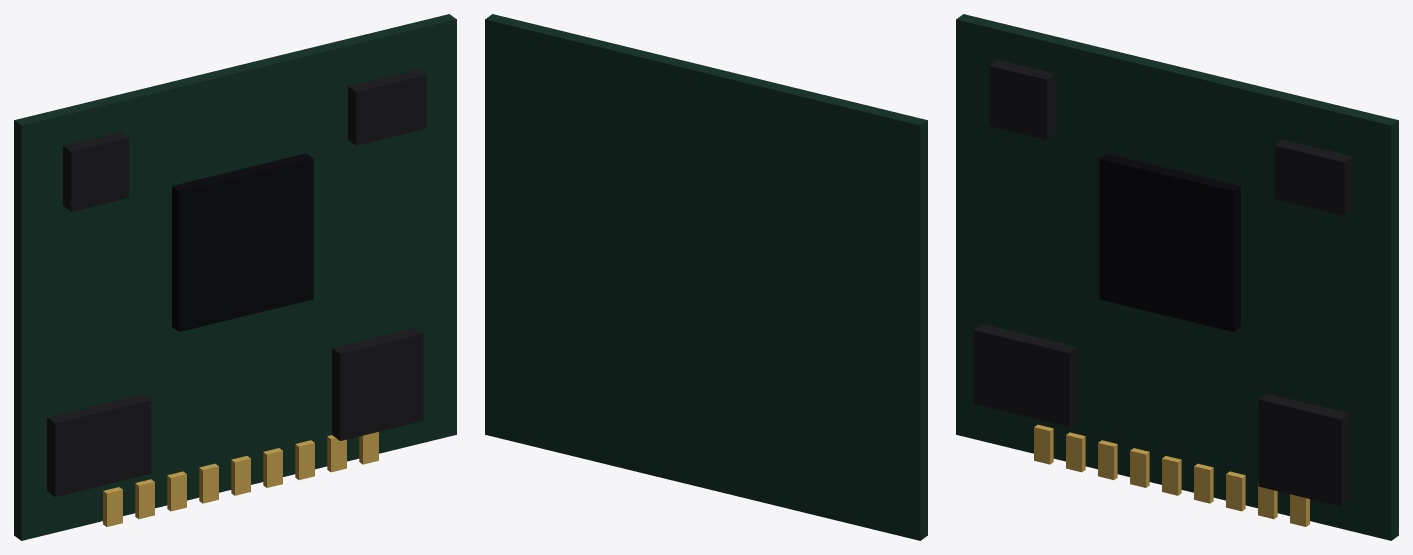
File: 05_Main_Board.glb
The picture shows the model from 3 angles, left to right: view 1: azimuth 30°, elevation 25°; view 2: azimuth 150°, elevation 25°; view 3: azimuth 330°, elevation 25°; orthographic projection.
Parts seen in each view (by area): view 1: Main_Board.PCB, Main_Board.Lens_Glass, Main_Board.Chip_2, Main_Board.Chip, Main_Board.Chip_3, Main_Board.Chip_4, Main_Board.Gold_Contacts_2, Main_Board.Gold_Contacts_3, Main_Board.Gold_Contacts_7, Main_Board.Gold_Contacts_4, Main_Board.Gold_Contacts_6, Main_Board.Gold_Contacts (+3 smaller); view 2: Main_Board.PCB; view 3: Main_Board.PCB, Main_Board.Lens_Glass, Main_Board.Chip_2, Main_Board.Chip, Main_Board.Chip_3, Main_Board.Chip_4, Main_Board.Gold_Contacts_3, Main_Board.Gold_Contacts_7, Main_Board.Gold_Contacts_4, Main_Board.Gold_Contacts_6, Main_Board.Gold_Contacts, Main_Board.Gold_Contacts_2 (+3 smaller).
Part boxes in pixels (box(x1,y1,x2,y2)): Main_Board.PCB: box(14, 14, 456, 540); Main_Board.Lens_Glass: box(172, 153, 313, 331); Main_Board.Chip_2: box(332, 328, 423, 440); Main_Board.Chip: box(47, 394, 151, 497); Main_Board.Chip_3: box(348, 69, 426, 145); Main_Board.Chip_4: box(63, 131, 128, 211); Main_Board.Gold_Contacts_2: box(135, 479, 154, 519); Main_Board.Gold_Contacts_3: box(167, 471, 186, 511); Main_Board.Gold_Contacts_7: box(295, 440, 314, 479); Main_Board.Gold_Contacts_4: box(199, 463, 218, 503); Main_Board.Gold_Contacts_6: box(263, 448, 282, 487); Main_Board.Gold_Contacts: box(103, 487, 122, 526); Main_Board.PCB: box(485, 14, 927, 540); Main_Board.PCB: box(956, 14, 1398, 540); Main_Board.Lens_Glass: box(1099, 153, 1240, 331); Main_Board.Chip_2: box(1258, 393, 1349, 506); Main_Board.Chip: box(973, 324, 1077, 426); Main_Board.Chip_3: box(1274, 139, 1352, 215); Main_Board.Chip_4: box(989, 60, 1055, 139); Main_Board.Gold_Contacts_3: box(1098, 440, 1117, 479); Main_Board.Gold_Contacts_7: box(1226, 471, 1245, 511); Main_Board.Gold_Contacts_4: box(1130, 448, 1149, 487); Main_Board.Gold_Contacts_6: box(1194, 463, 1213, 503); Main_Board.Gold_Contacts: box(1034, 424, 1053, 464); Main_Board.Gold_Contacts_2: box(1066, 432, 1085, 472).
Bounding box in the file's own units: 0.0442 × 0.0406 × 0.00276.
